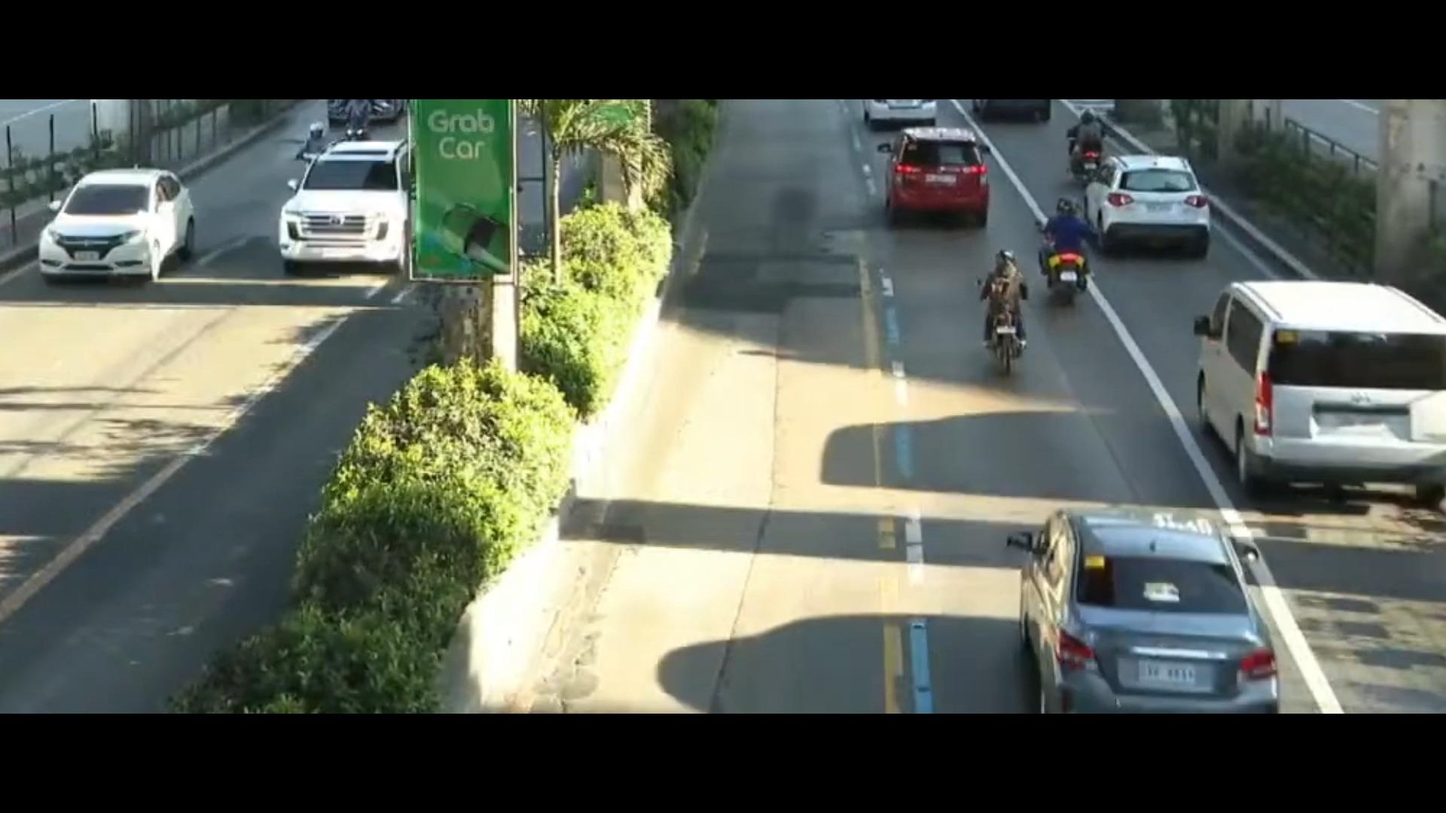Motorcycle: (953, 236, 1051, 366), (1034, 190, 1099, 292), (1049, 104, 1117, 173)
SUV: (260, 126, 424, 288), (1081, 140, 1226, 246), (861, 119, 996, 220)
Sedan: (974, 452, 1314, 718), (21, 166, 194, 288)
Van: (1166, 251, 1446, 497)
